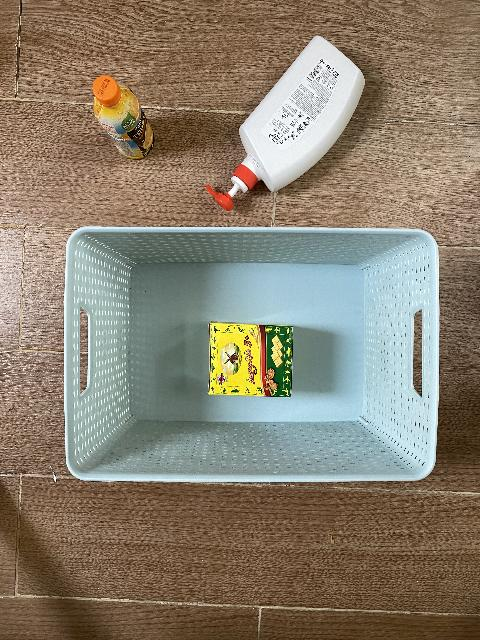cart: (62, 226, 440, 485)
life-buoy: (206, 36, 366, 212)
luong_kho: (207, 322, 294, 398)
teppy_orange_juice: (92, 76, 155, 161)
